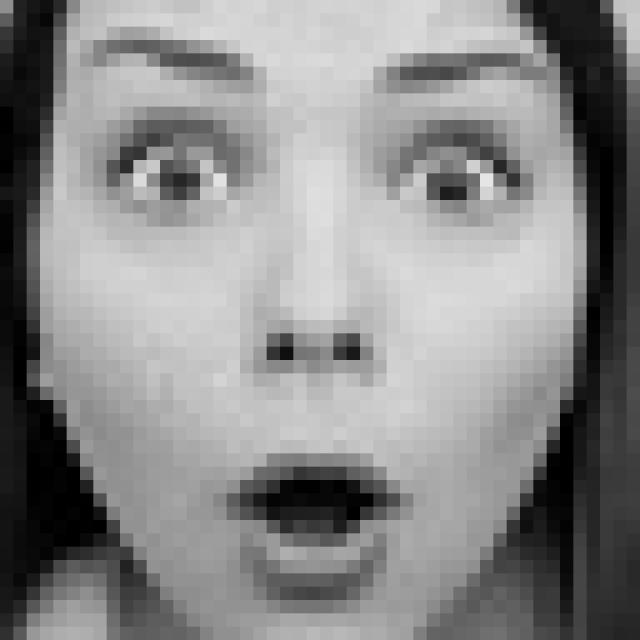surprise: (74, 29, 556, 596)
